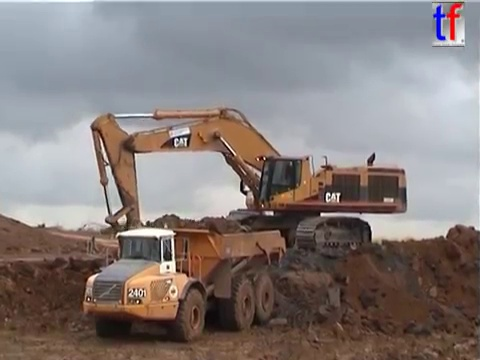excavator: (88, 104, 411, 266)
truck: (80, 224, 289, 344), (223, 207, 305, 251)
